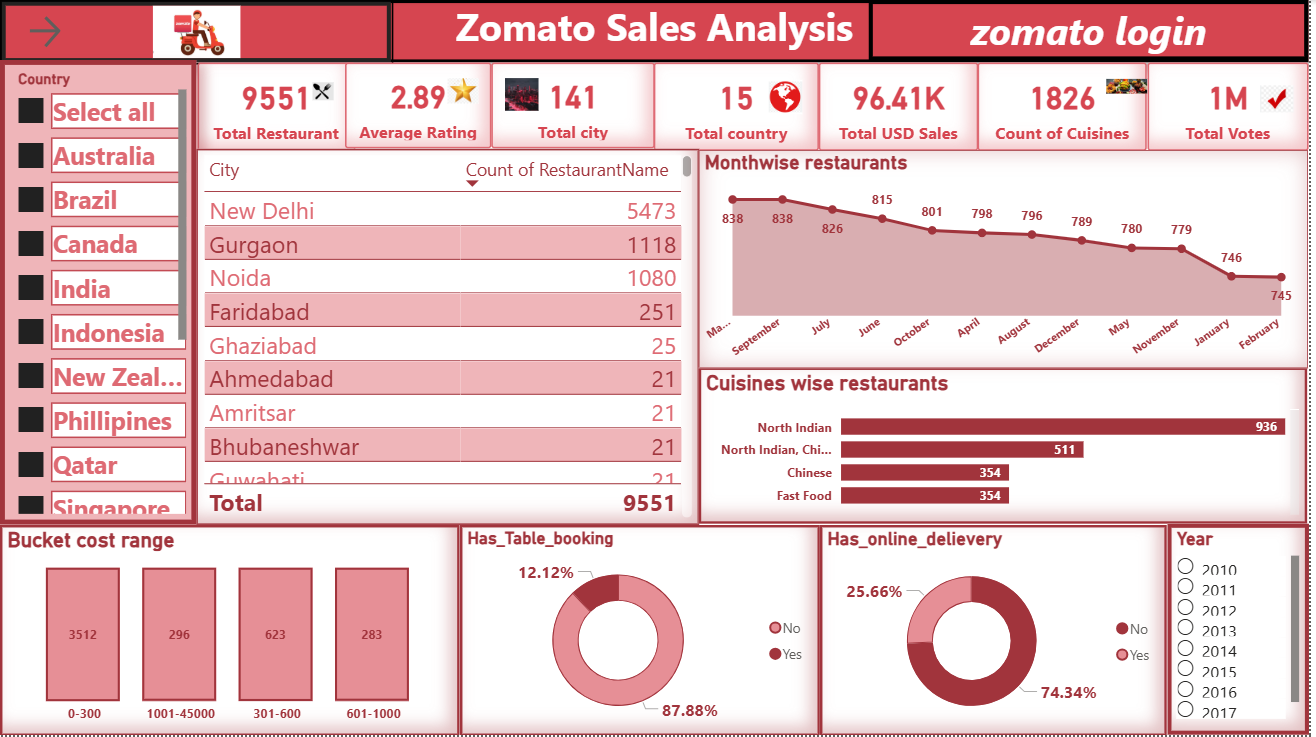

The dashboard page shown, as its layout file describes it:
{"tool":"powerbi","page":{"name":"Restaurant Distribution overview","canvas":[1280,720],"ordinal":0},"visuals":[{"type":"shape","box":[0,0,1280.3,61.1],"z":0},{"type":"image","box":[0,0,385.2,63.6],"z":1000},{"type":"card","fields":{"Values":["CountNonNull(MAIN AFTER MERGING.RestaurantID)"]},"box":[193.2,61.1,154.1,86.8],"z":2000},{"type":"card","fields":{"Values":["Avg(MAIN AFTER MERGING.Rating)"]},"box":[337.5,61.1,143.1,84.4],"z":3000},{"type":"card","fields":{"Values":["Count(MAIN AFTER MERGING.country name)"]},"box":[639.1,60.6,161.6,86.6],"z":4000},{"type":"card","fields":{"Values":["Count(MAIN AFTER MERGING.City)"]},"box":[480.6,61.1,160.2,84.4],"z":5000},{"type":"card","fields":{"Values":["Count(MAIN AFTER MERGING.Cuisines)"]},"box":[956.6,60.6,165.9,86.6],"z":6000},{"type":"card","fields":{"Values":["Sum(MAIN AFTER MERGING.Votes)"]},"box":[1122.5,60.6,157.3,86.6],"z":7000},{"type":"image","box":[305.7,68.5,20.8,41.6],"z":8000},{"type":"image","box":[1232.1,79.4,33.2,34.6],"z":9000},{"type":"image","box":[437.8,70.9,30.6,36.7],"z":10000},{"type":"image","box":[751.7,70.7,33.2,47.6],"z":11000},{"type":"image","box":[493.4,63.5,33.2,57.7],"z":12000},{"type":"image","box":[1082.2,63.6,40.4,41.6],"z":13000},{"type":"card","fields":{"Values":["MAIN AFTER MERGING.total usd rate"]},"box":[800.7,60.6,155.8,86.6],"z":14000},{"type":"slicer","fields":{"Values":["MAIN AFTER MERGING.country name"]},"box":[0,59.2,191.9,454.5],"z":15000},{"type":"hundredPercentStackedColumnChart","title":"Bucket cost range","fields":{"Category":["MAIN AFTER MERGING.Bucket cost range"],"Y":["CountNonNull(MAIN AFTER MERGING.RestaurantName)","Sum(MAIN AFTER MERGING.count of Restruants)"]},"box":[0,513.6,449.7,206.2],"z":16000},{"type":"donutChart","title":" Has_Table_booking","fields":{"Category":["MAIN AFTER MERGING.Has_Table_booking"],"Y":["CountNonNull(MAIN AFTER MERGING.RestaurantName)"]},"box":[449.7,513.6,351.9,206.2],"z":17000},{"type":"donutChart","title":" Has_online_delievery","fields":{"Category":["MAIN AFTER MERGING.Has_Online_delivery"],"Y":["CountNonNull(MAIN AFTER MERGING.RestaurantName)"]},"box":[801.6,513.6,339.5,206.2],"z":18000},{"type":"tableEx","fields":{"Values":["MAIN AFTER MERGING.City","CountNonNull(MAIN AFTER MERGING.RestaurantName)"]},"box":[191.9,145.7,492,367.9],"z":19000},{"type":"clusteredBarChart","title":"Cuisines wise restaurants","fields":{"Category":["MAIN AFTER MERGING.Cuisines"],"Y":["CountNonNull(MAIN AFTER MERGING.RestaurantID)"]},"box":[683.6,359.5,595.5,152.9],"z":20000},{"type":"listSlicer","fields":{"Values":["MAIN AFTER MERGING.Year"]},"box":[1142.1,512.4,138.2,206.7],"z":21000},{"type":"areaChart","title":"Monthwise restaurants","fields":{"Category":["MAIN AFTER MERGING.Month Name"],"Y":["CountNonNull(MAIN AFTER MERGING.RestaurantName)"]},"box":[683.9,147.2,595.9,213.5],"z":22000},{"type":"actionButton","title":"zomato login","box":[849.8,0,429.9,59.2],"z":23000},{"type":"actionButton","box":[23.2,11,100.3,40.4],"z":24000}]}

Visuals, with their boxes in screenshot pixels (x1, y1, x2, y2), scaled from the page's 1280x720 canvas onto the 1316x737 screenshot:
shape: [0,0,1315,63]
image: [0,0,396,65]
card - CountNonNull(MAIN AFTER MERGING.RestaurantID): [199,63,357,151]
card - Avg(MAIN AFTER MERGING.Rating): [347,63,494,149]
card - Count(MAIN AFTER MERGING.country name): [657,62,823,151]
card - Count(MAIN AFTER MERGING.City): [494,63,659,149]
card - Count(MAIN AFTER MERGING.Cuisines): [984,62,1154,151]
card - Sum(MAIN AFTER MERGING.Votes): [1154,62,1315,151]
image: [314,70,336,113]
image: [1267,81,1301,117]
image: [450,73,482,110]
image: [773,72,807,121]
image: [507,65,541,124]
image: [1113,65,1154,108]
card - MAIN AFTER MERGING.total usd rate: [823,62,983,151]
slicer - MAIN AFTER MERGING.country name: [0,61,197,526]
"Bucket cost range" hundredPercentStackedColumnChart: [0,526,462,736]
" Has_Table_booking" donutChart: [462,526,824,736]
" Has_online_delievery" donutChart: [824,526,1173,736]
tableEx - MAIN AFTER MERGING.City x CountNonNull(MAIN AFTER MERGING.RestaurantName): [197,149,703,526]
"Cuisines wise restaurants" clusteredBarChart: [703,368,1315,524]
listSlicer - MAIN AFTER MERGING.Year: [1174,524,1315,736]
"Monthwise restaurants" areaChart: [703,151,1315,369]
"zomato login" actionButton: [874,0,1315,61]
actionButton: [24,11,127,53]
